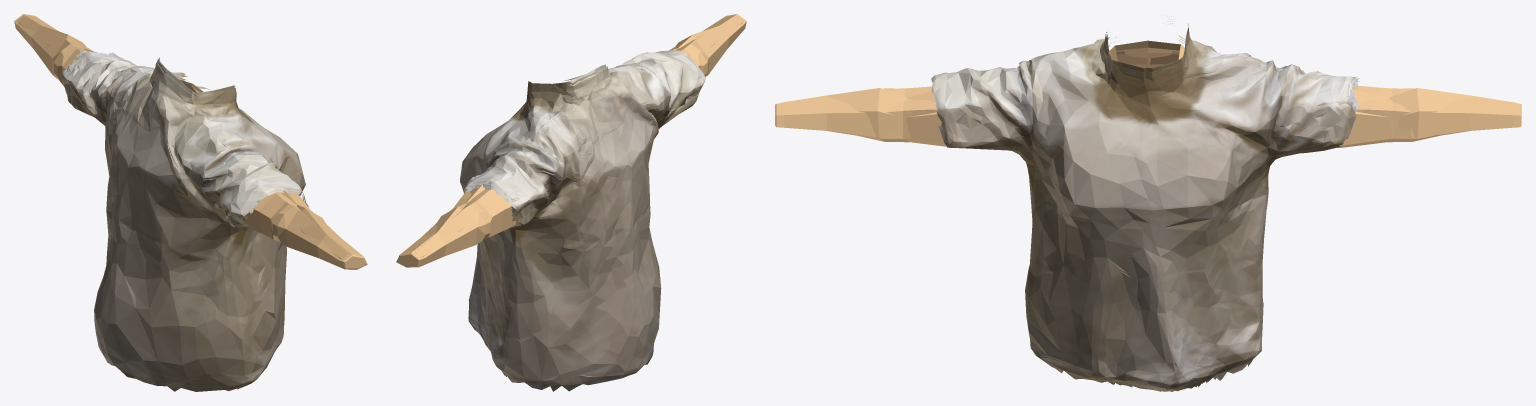
File: &&whiteshirt.glb
3 views of the same model, side by side, from view 1: azimuth 30°, elevation 25°; view 2: azimuth 150°, elevation 25°; view 3: azimuth 270°, elevation 25° (orthographic). The views are drawn at different scales.
Parts seen in each view (by area): view 1: chest_w.002, chest.001, chest_w, chest_w.001, chest; view 2: chest_w.002, chest.001, chest_w, chest_w.001, chest; view 3: chest_w.002, chest.001, chest_w.001, chest_w.
Part boxes in pixels (bbox=[...]): chest_w.002: bbox=[17, 16, 348, 383]; chest.001: bbox=[14, 16, 359, 391]; chest_w: bbox=[67, 51, 297, 214]; chest_w.001: bbox=[68, 50, 261, 199]; chest: bbox=[14, 14, 367, 269]; chest_w.002: bbox=[415, 16, 743, 390]; chest.001: bbox=[397, 16, 746, 391]; chest_w: bbox=[466, 66, 648, 216]; chest_w.001: bbox=[467, 64, 617, 215]; chest: bbox=[396, 14, 746, 266]; chest_w.002: bbox=[780, 20, 1516, 390]; chest.001: bbox=[784, 40, 1512, 391]; chest_w.001: bbox=[1090, 16, 1356, 111]; chest_w: bbox=[1096, 18, 1357, 105].
Bounding box in the file's own units: 0.5968 × 0.9714 × 1.96.
10 materials, 1 textured.
